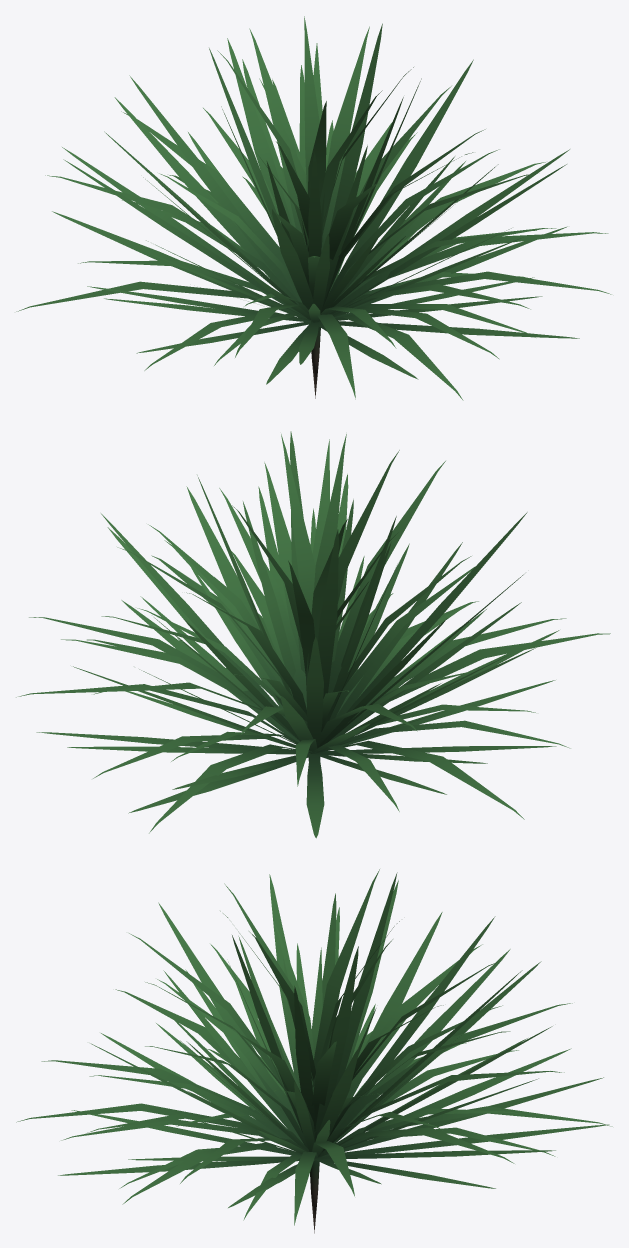
The model's file is plants-grasses-reeds-spiky-grass_v1.fbx.
The picture shows the model from 3 angles, top to bottom: view 1: azimuth 30°, elevation 25°; view 2: azimuth 150°, elevation 25°; view 3: azimuth 270°, elevation 25°; orthographic projection. The views are drawn at different scales.
Parts seen in each view (by area): view 1: Spiky Grass_v1; view 2: Spiky Grass_v1; view 3: Spiky Grass_v1.
Part boxes in pixels (<box>): Spiky Grass_v1: <box>16,16,611,400</box>; Spiky Grass_v1: <box>16,431,610,838</box>; Spiky Grass_v1: <box>16,869,612,1233</box>.
Bounding box in the file's own units: 0.5694 × 0.3685 × 0.6.
